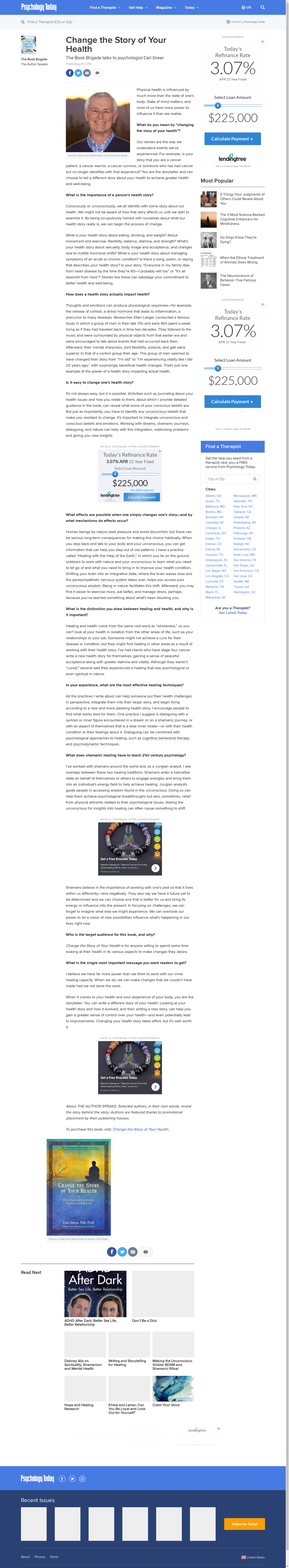fake_button: (200, 390, 273, 416), (202, 129, 268, 150)
